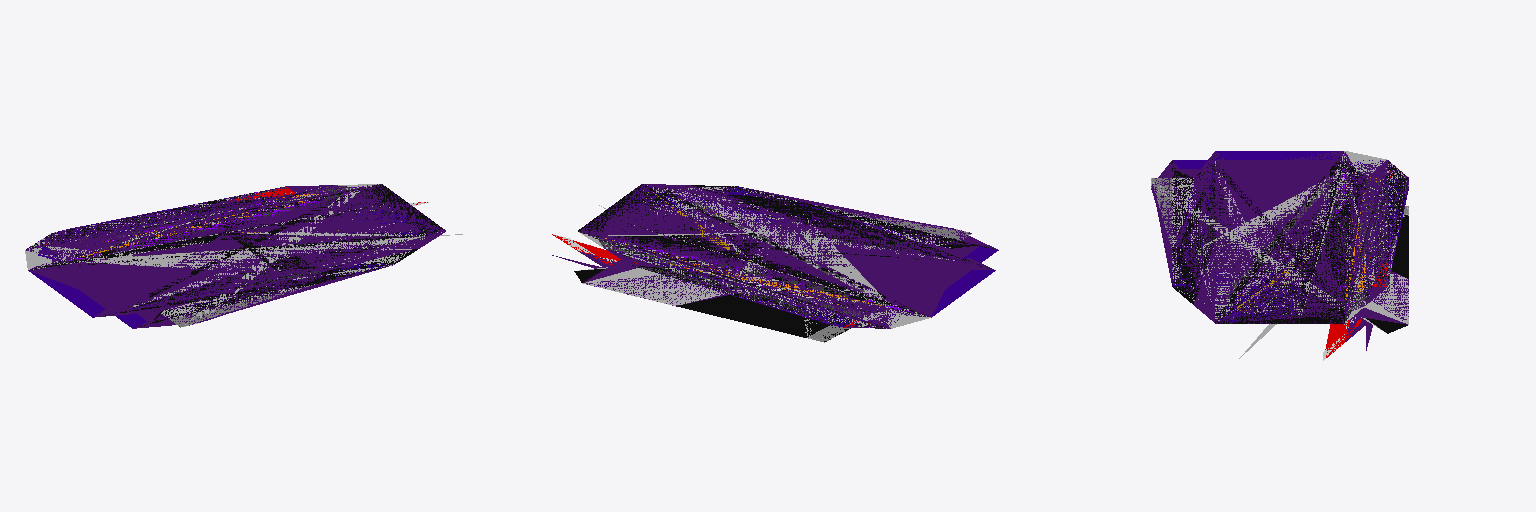
3 renders of one model, left to right at view 1: azimuth 30°, elevation 25°; view 2: azimuth 150°, elevation 25°; view 3: azimuth 270°, elevation 25°, orthographic.
Size of the model in its own units: 21 by 1 by 12.
1 materials, 1 textured.